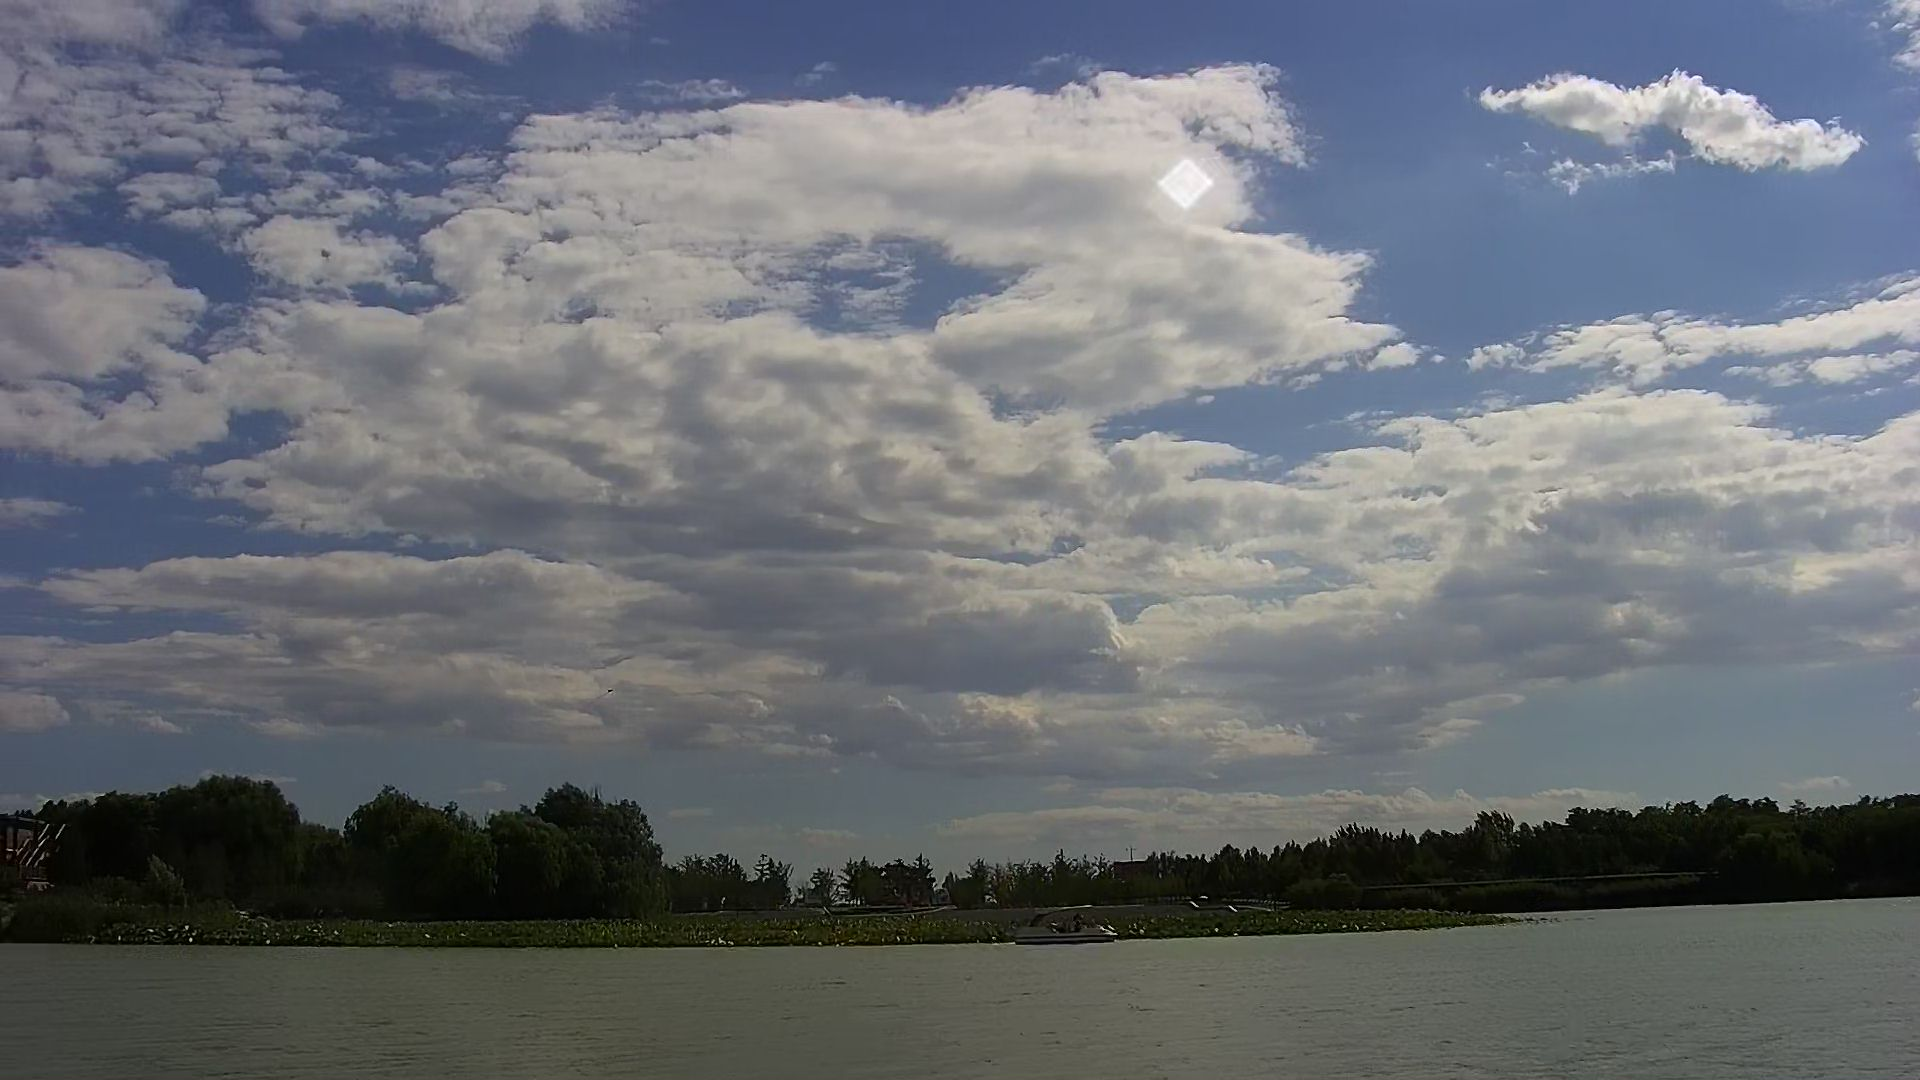boat: (1005, 897, 1126, 951)
